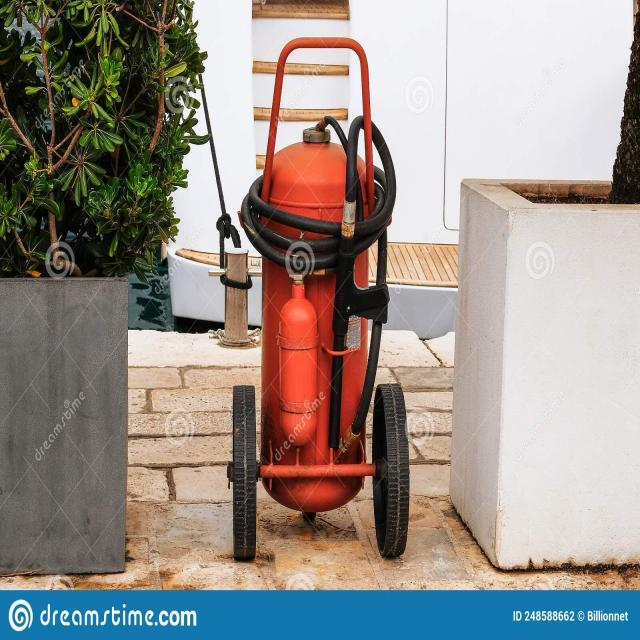fire_extinguisher: (235, 118, 402, 515), (280, 258, 331, 453)
